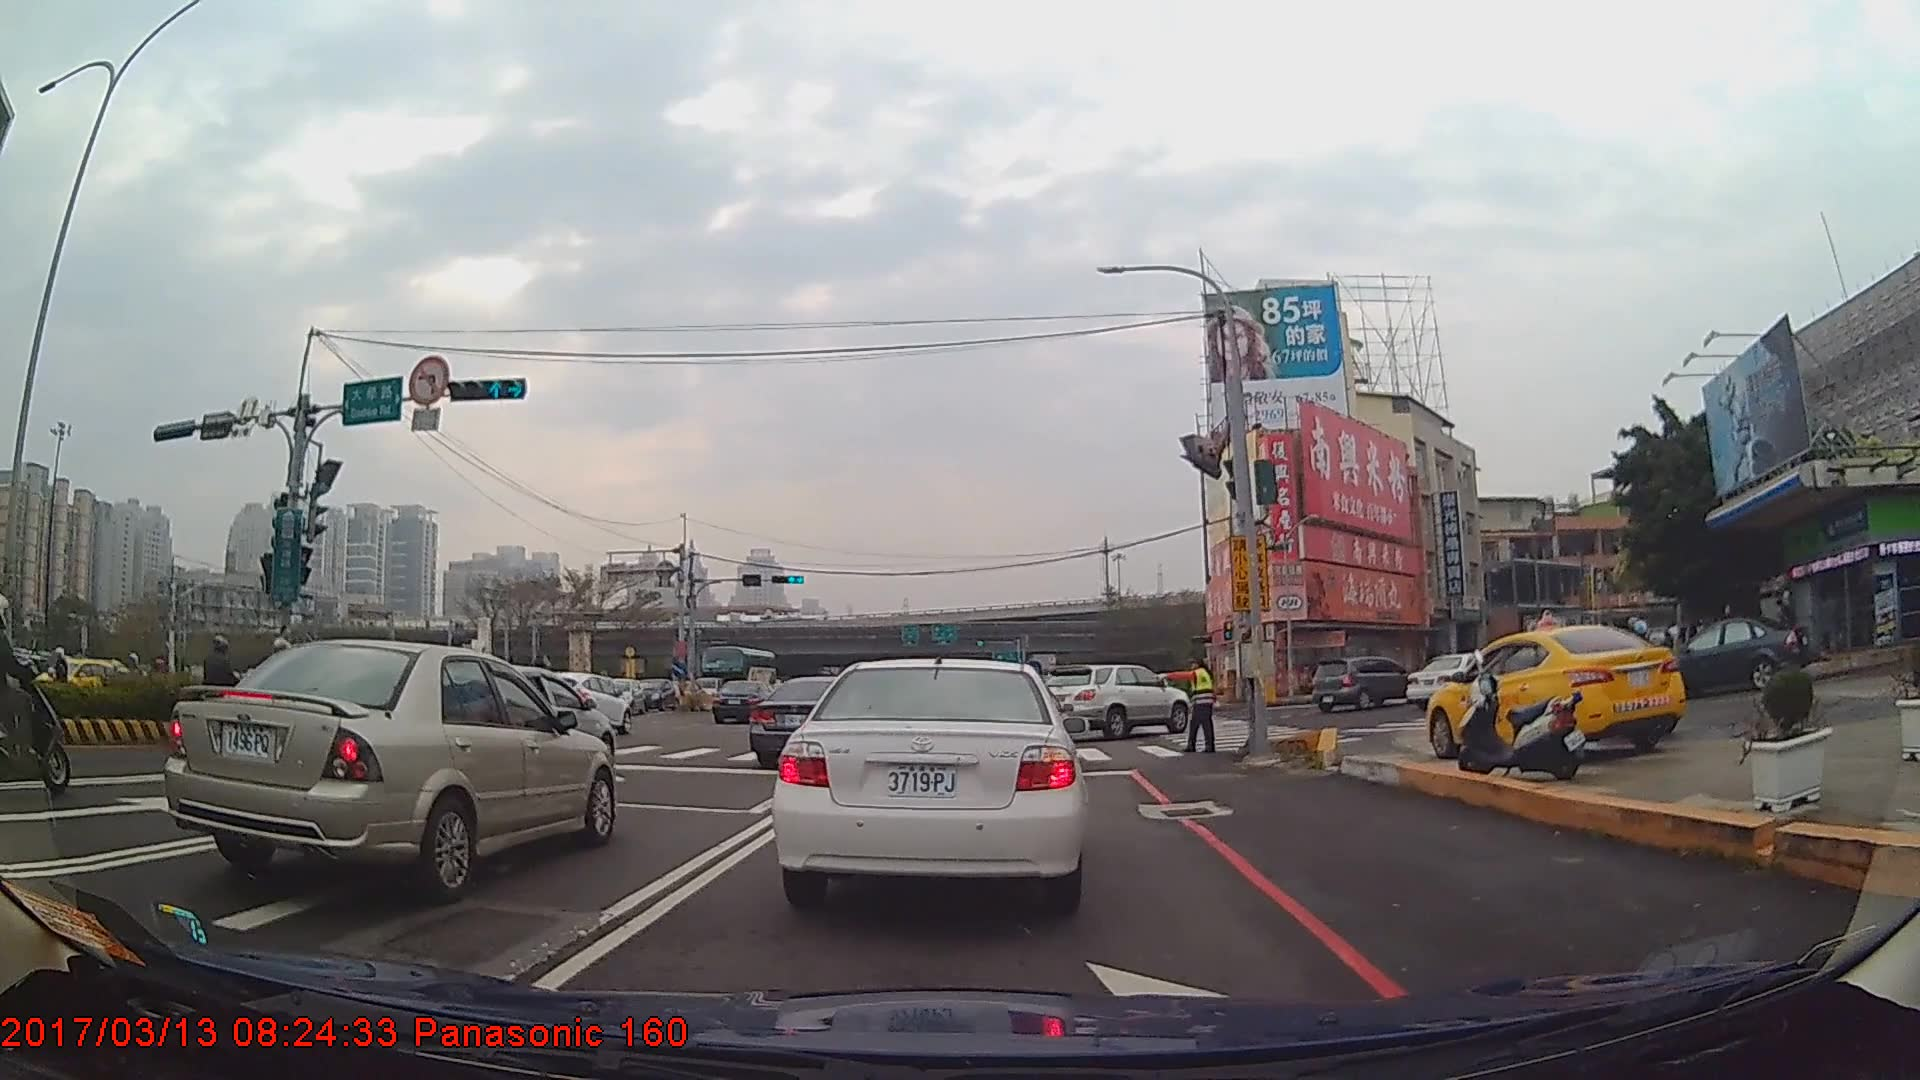pedestrian: (1147, 660, 1218, 759)
rider: (1, 597, 79, 796), (185, 633, 261, 755)
vehicle: (164, 638, 615, 899), (771, 652, 1088, 908), (1425, 622, 1681, 757), (1645, 616, 1809, 697), (1040, 660, 1189, 738), (748, 675, 872, 764), (1404, 652, 1517, 712), (538, 669, 632, 735), (1309, 653, 1416, 710), (709, 676, 782, 723)
